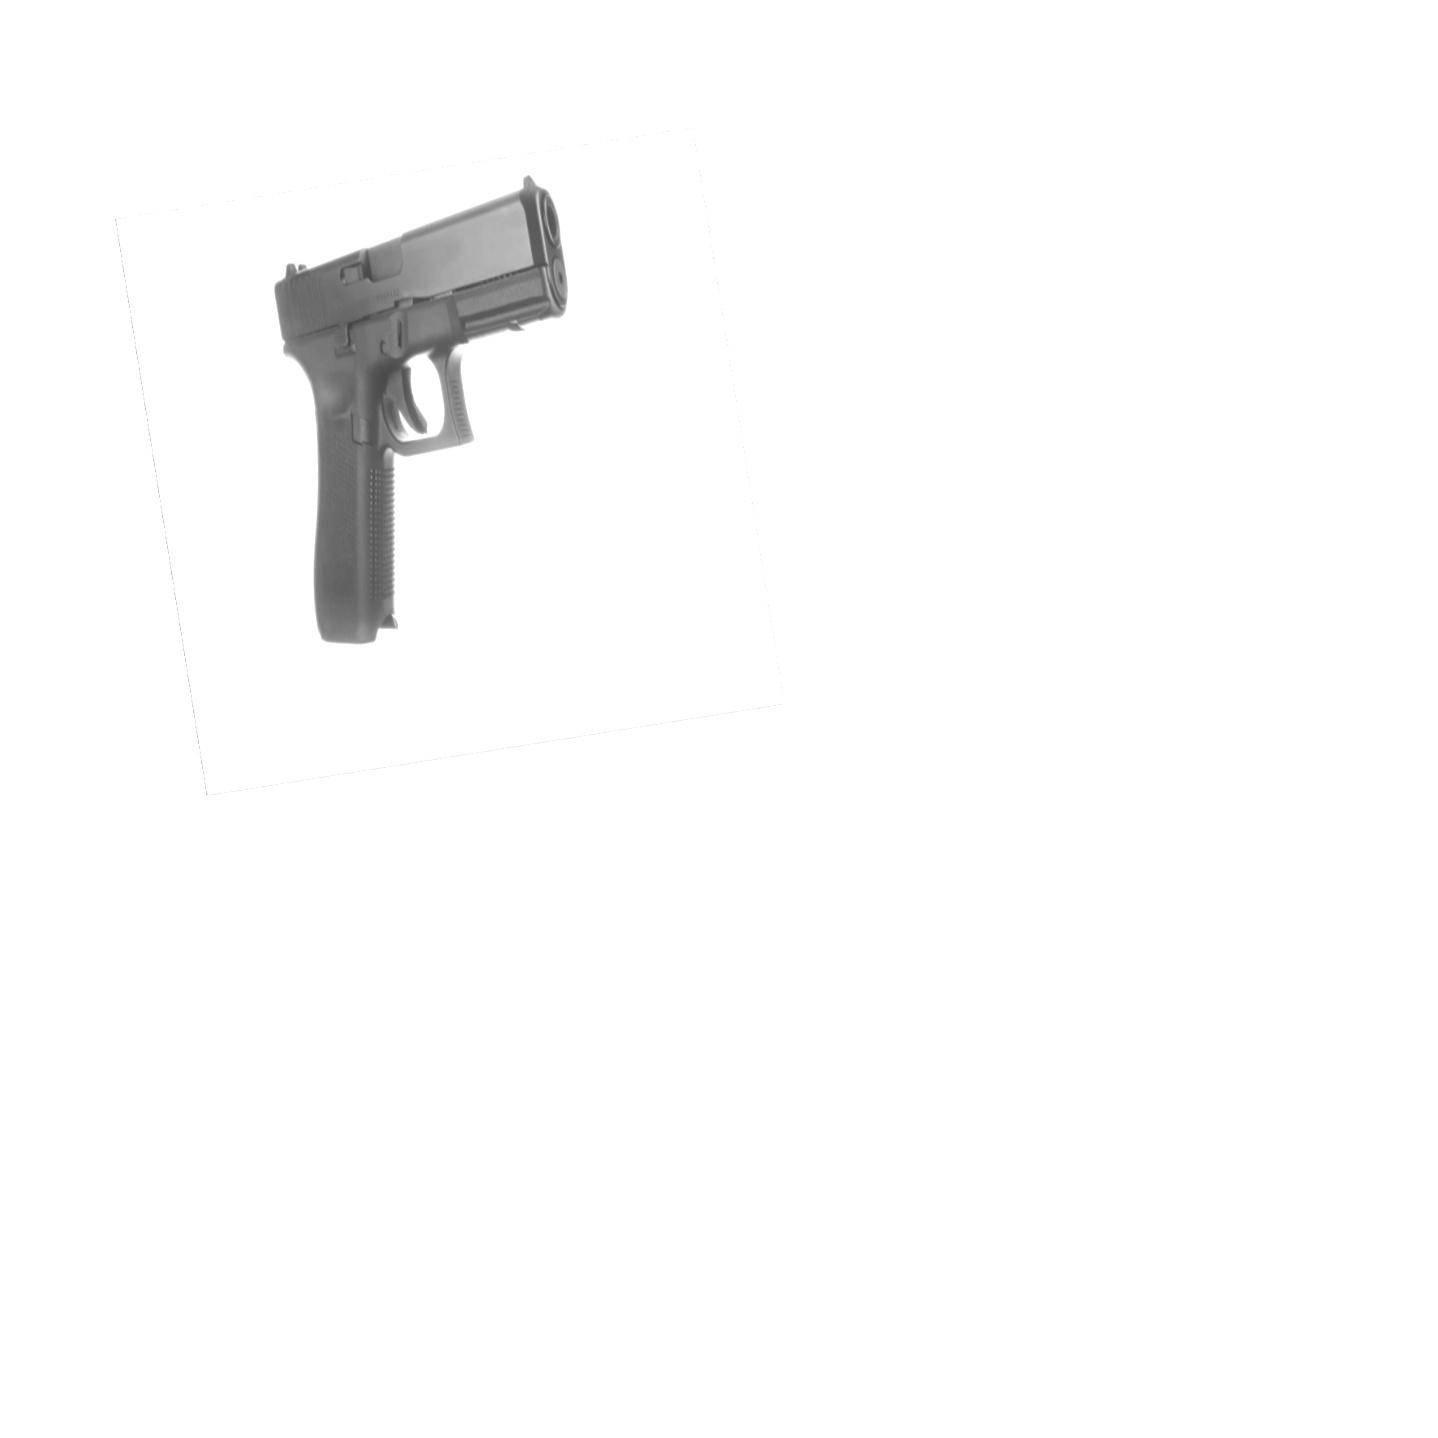gun: (273, 175, 570, 649)
